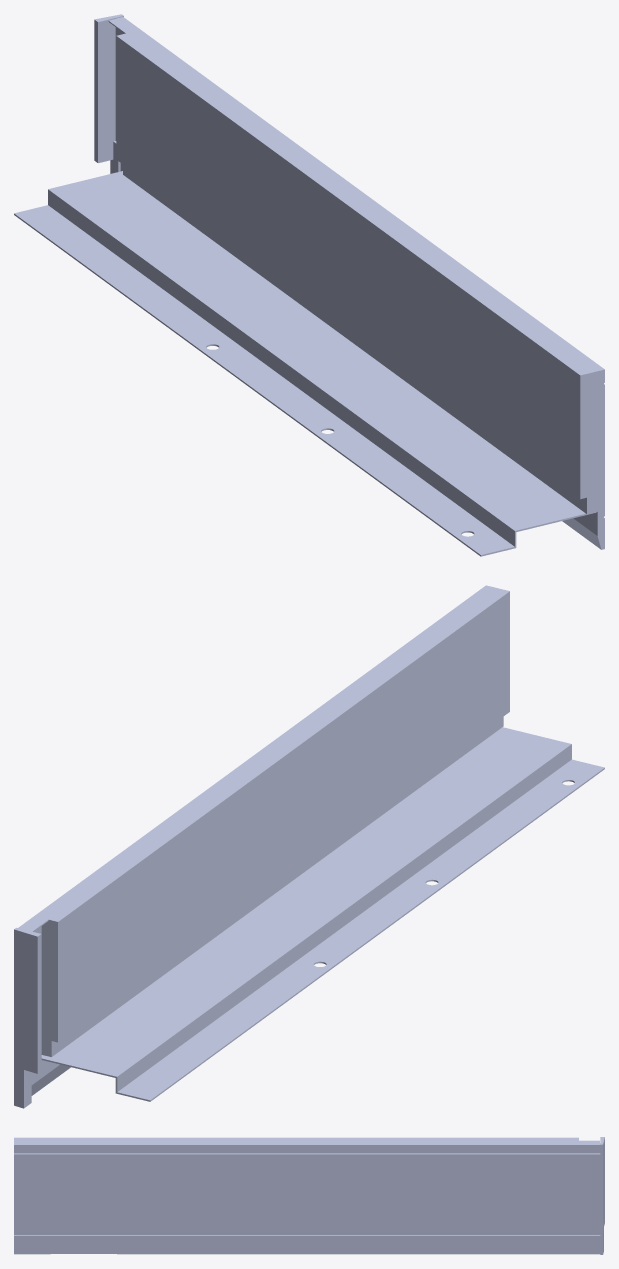
File: lg-kava-M450-m.glb
3 renders of one model, top to bottom at view 1: azimuth 30°, elevation 25°; view 2: azimuth 150°, elevation 25°; view 3: azimuth 270°, elevation 25°, orthographic. The views are drawn at different scales.
Visible parts, largest first — view 1: 42511834; view 2: 42511834; view 3: 42511834.
Boxes of the visible parts, <box> form: 42511834: <box>14,14,604,556</box>; 42511834: <box>14,585,604,1108</box>; 42511834: <box>14,1137,604,1254</box>.
Size of the model in its own units: 0.0653 by 0.0912 by 0.4435.
